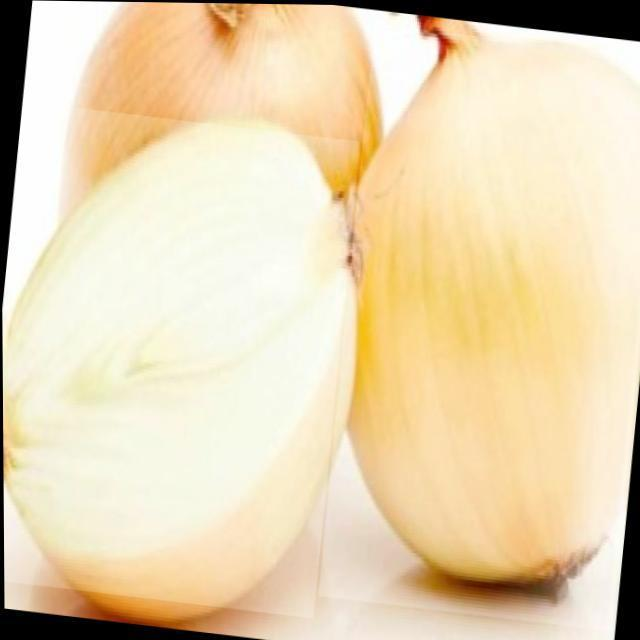Onion: (313, 21, 640, 628), (0, 101, 362, 617)
